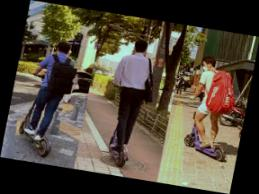nonhelmet: (95, 36, 164, 171), (13, 37, 83, 161), (179, 53, 248, 165)
